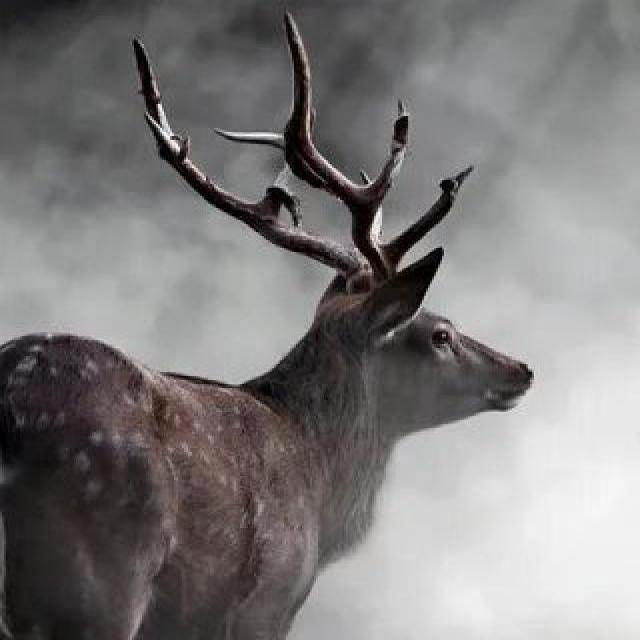deer: (0, 0, 535, 612)
